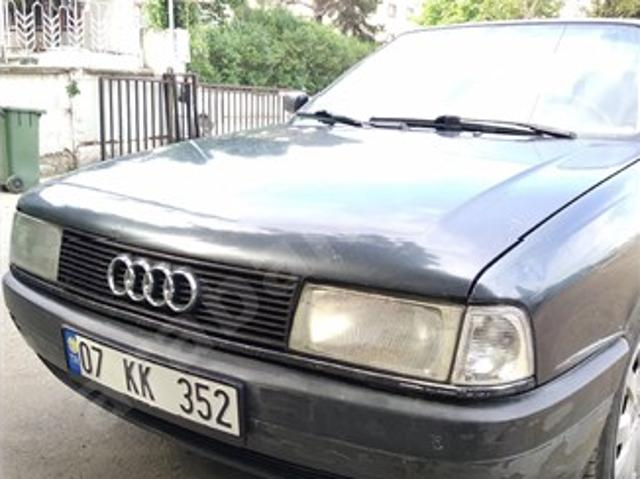audi: (102, 249, 200, 313)
